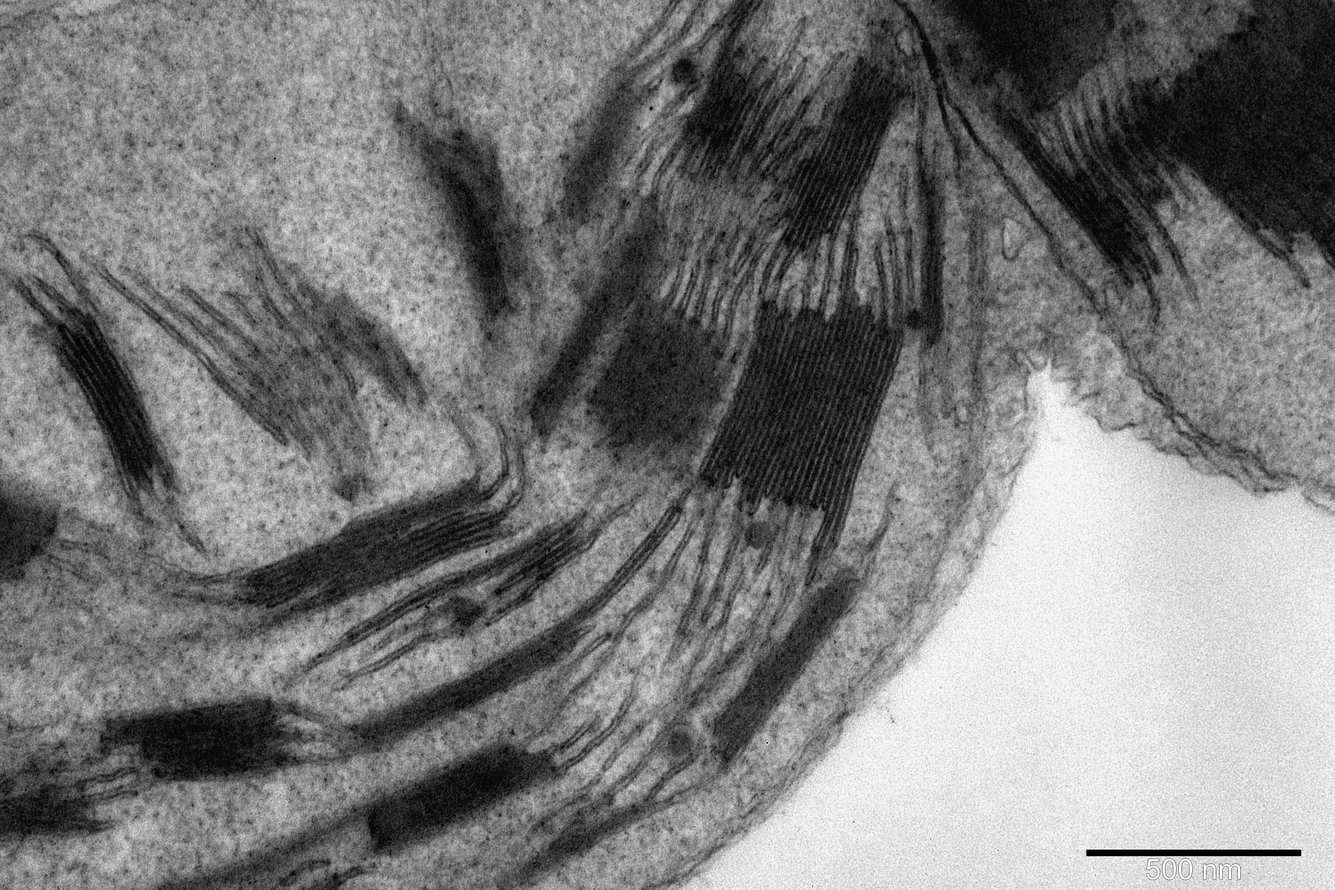granum: (1126, 0, 1335, 274), (693, 289, 907, 556), (232, 474, 514, 611), (338, 617, 580, 760), (526, 208, 667, 437), (710, 565, 865, 755), (774, 56, 913, 254), (585, 288, 731, 463), (992, 108, 1143, 269), (367, 739, 565, 854), (53, 311, 172, 493), (942, 0, 1118, 114), (415, 134, 516, 320), (103, 693, 286, 786), (562, 82, 643, 222), (463, 515, 593, 591), (0, 475, 59, 584), (682, 41, 747, 139), (913, 172, 945, 342), (0, 781, 88, 841), (705, 74, 760, 162), (0, 771, 19, 802)
